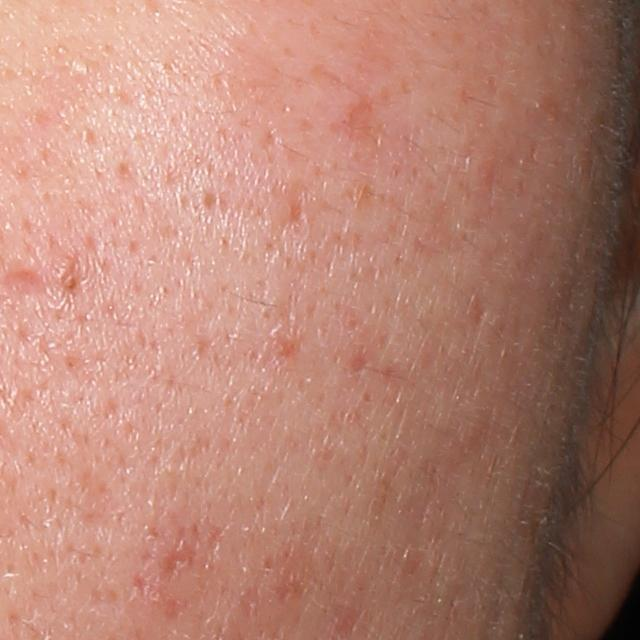atrophic_scar: (161, 544, 199, 584), (5, 266, 45, 295)
